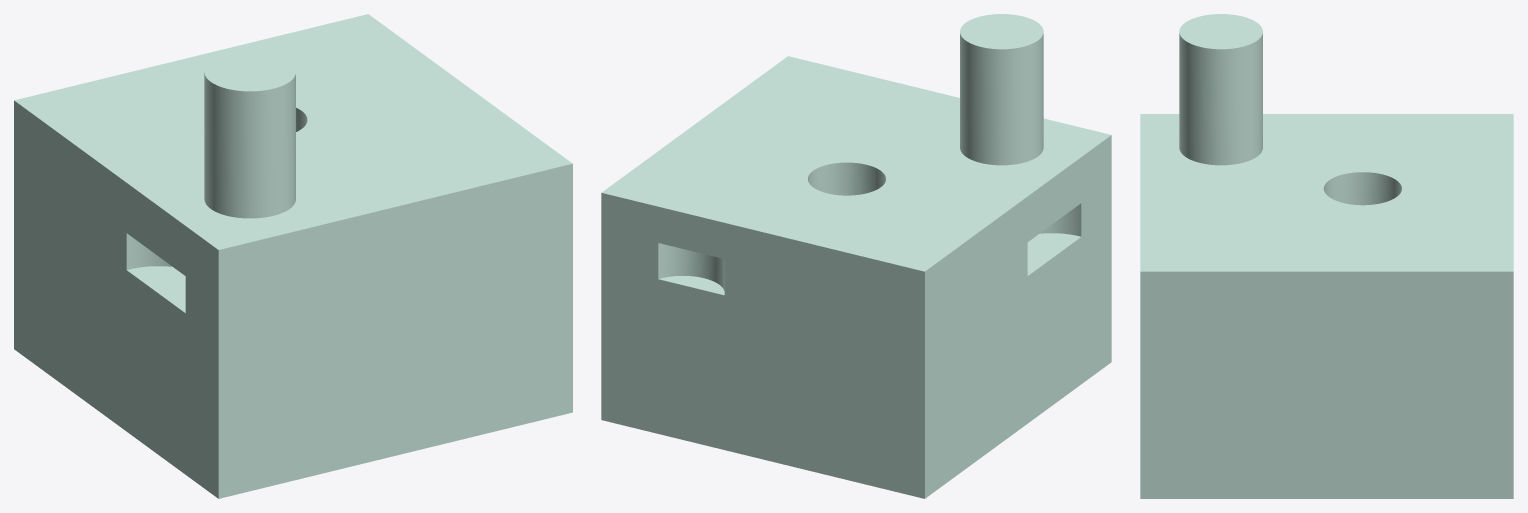
The picture shows the model from 3 angles, left to right: view 1: azimuth 30°, elevation 25°; view 2: azimuth 150°, elevation 25°; view 3: azimuth 270°, elevation 25°; orthographic projection. The views are drawn at different scales.
Parts seen in each view (by area): view 1: Renderer Node; view 2: Renderer Node; view 3: Renderer Node.
Boxes of the visible parts, x1,y1,x2,y2 form: Renderer Node: (14,14,572,498); Renderer Node: (601,14,1111,498); Renderer Node: (1140,14,1513,498).
Bounding box in the file's own units: 1.09 × 1.11 × 1.09.
